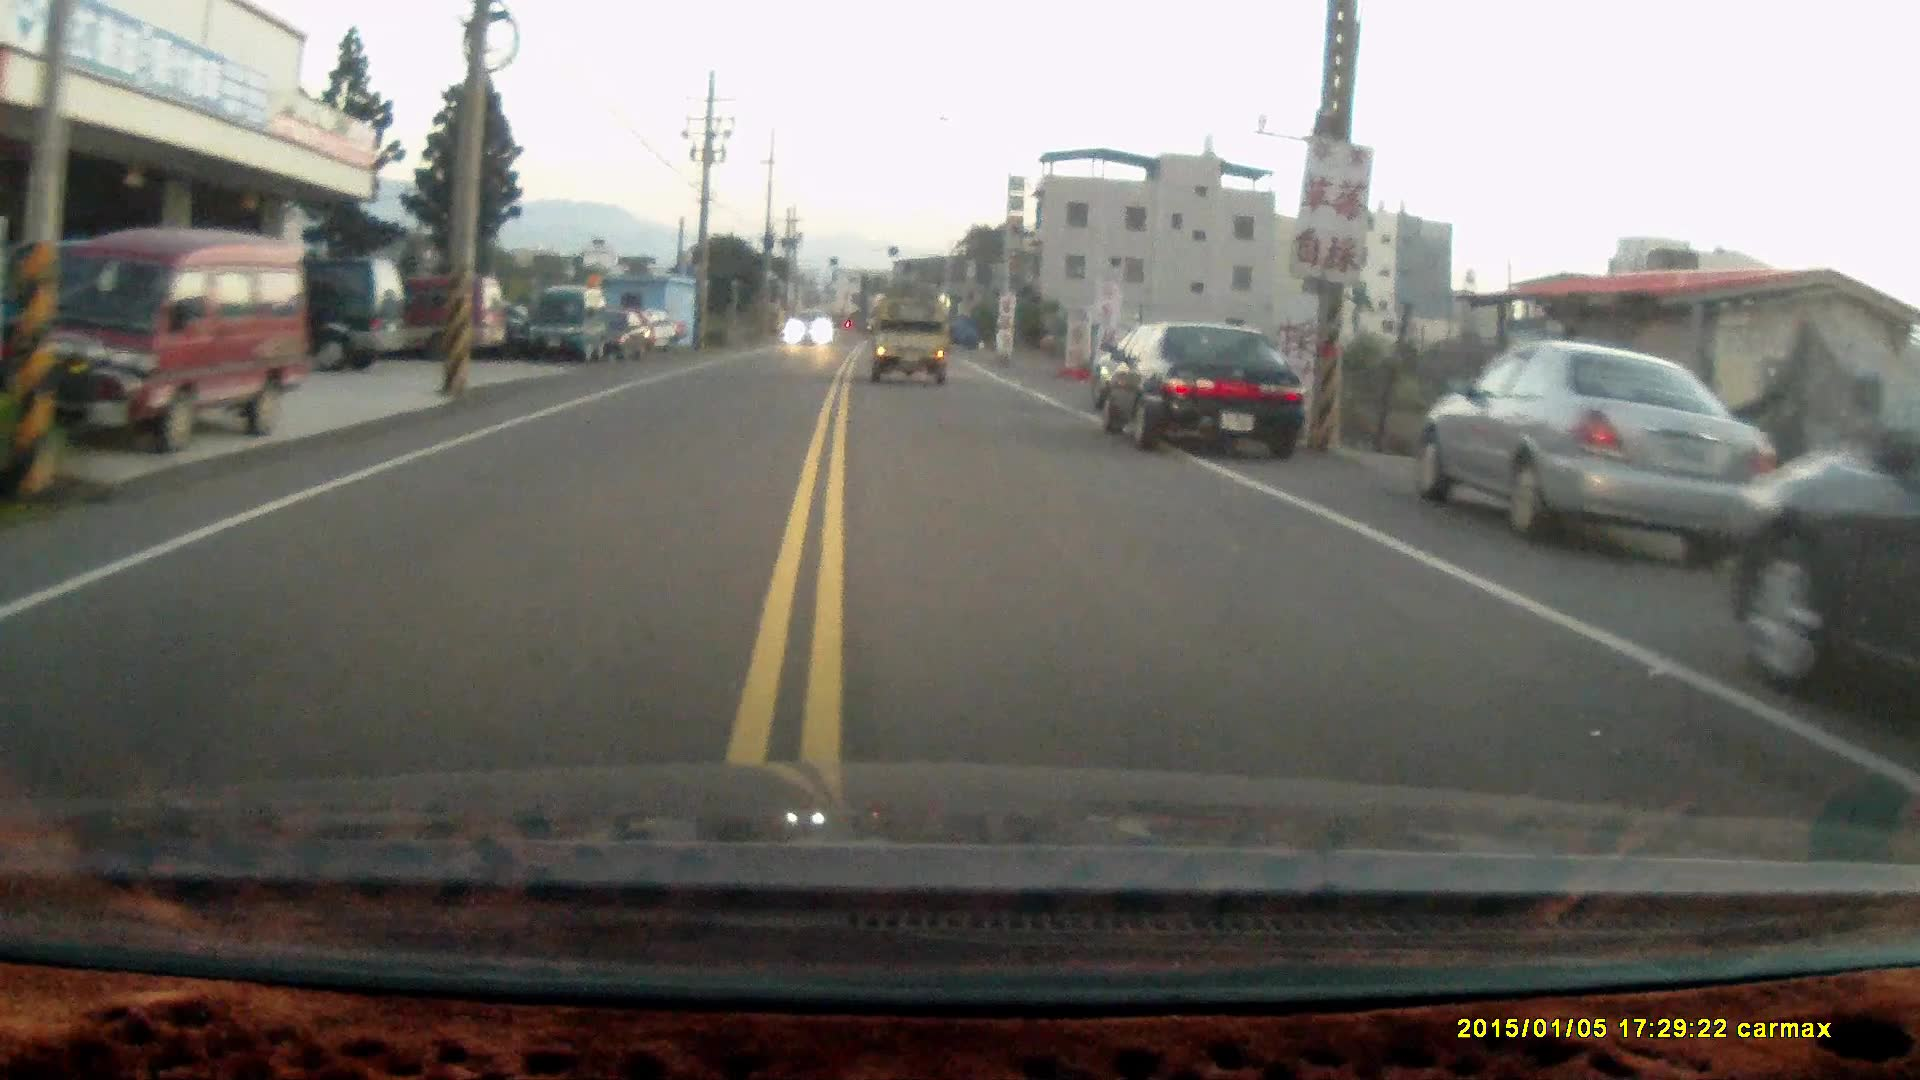vehicle: (1416, 336, 1780, 550), (25, 228, 316, 448), (1729, 407, 1920, 699), (1093, 318, 1309, 462), (193, 252, 411, 375), (348, 272, 517, 357), (868, 294, 956, 385), (527, 280, 613, 360)
